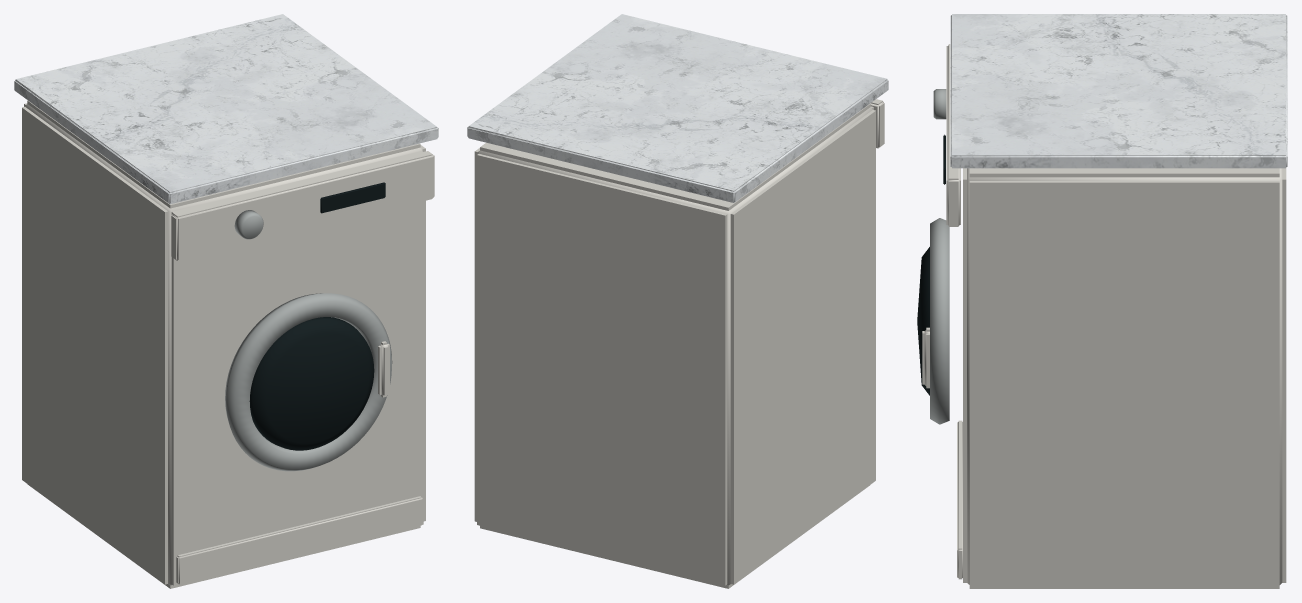
Rendered from shared.washer.gltf.
3 renders of one model, left to right at view 1: azimuth 30°, elevation 25°; view 2: azimuth 150°, elevation 25°; view 3: azimuth 270°, elevation 25°, orthographic. The views are drawn at different scales.
Parts seen in each view (by area): view 1: shared.washer.appliance-case; view 2: shared.washer.appliance-case; view 3: shared.washer.appliance-case.
Part boxes in pixels (x1,y1,x2,y2): shared.washer.appliance-case: (14, 14, 438, 588); shared.washer.appliance-case: (467, 14, 888, 588); shared.washer.appliance-case: (917, 14, 1287, 588).
Size of the model in its own units: 0.6 by 0.86 by 0.659.
4 materials, 1 textured.
